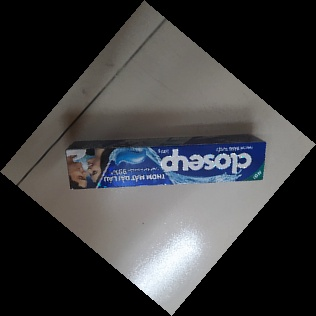CloseUp Tuyet: (64, 133, 267, 189)
